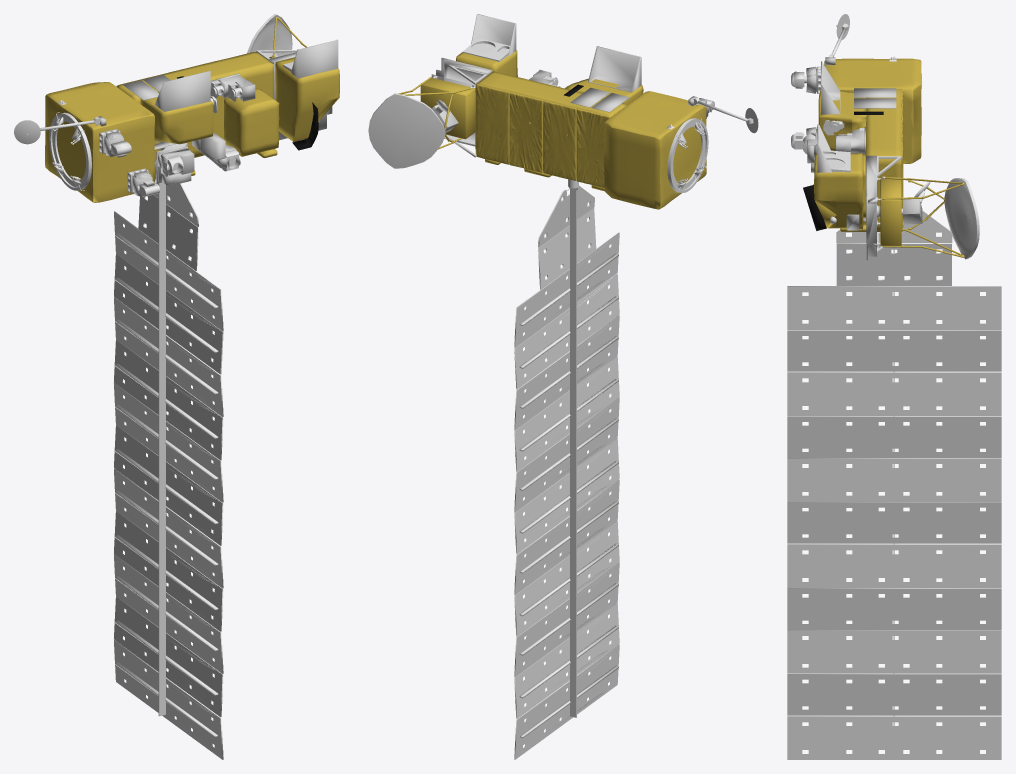
The model's file is Aqua_13.fbx.
3 renders of one model, left to right at view 1: azimuth 30°, elevation 25°; view 2: azimuth 150°, elevation 25°; view 3: azimuth 270°, elevation 25°, orthographic. The views are drawn at different scales.
Parts seen in each view (by area): view 1: tex_01, foil_gold, foil_silver, shiny_panel; view 2: tex_01, foil_gold, gold_2, foil_silver, shiny_panel; view 3: shiny_panel, foil_gold, tex_01, foil_silver, black_krinkle.
Part boxes in pixels (x1,y1,x2,y2): tex_01: [14, 14, 319, 759]; foil_gold: [45, 17, 339, 202]; foil_silver: [98, 39, 338, 196]; shiny_panel: [114, 211, 223, 759]; tex_01: [368, 38, 758, 759]; foil_gold: [398, 50, 706, 209]; gold_2: [476, 84, 610, 187]; foil_silver: [431, 14, 711, 140]; shiny_panel: [514, 232, 619, 759]; shiny_panel: [787, 286, 1001, 759]; foil_gold: [814, 58, 964, 257]; tex_01: [791, 14, 985, 754]; foil_silver: [795, 57, 922, 260]; black_krinkle: [803, 111, 883, 230].
Bounding box in the file's own units: 940 × 1778 × 508.
